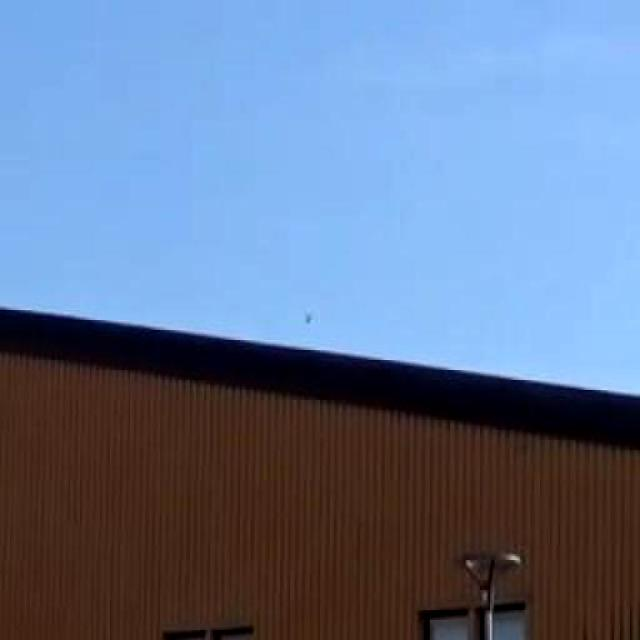drone: (289, 289, 331, 339)
